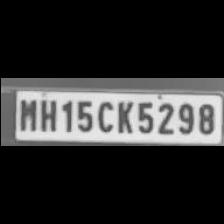1: (57, 96, 74, 132)
2: (154, 100, 174, 134)
5: (132, 99, 154, 134), (72, 96, 92, 132)
8: (194, 100, 216, 134)
9: (174, 100, 194, 134)
C: (92, 96, 114, 132)
H: (38, 96, 56, 132)
K: (113, 98, 134, 134)
M: (14, 96, 36, 130)
